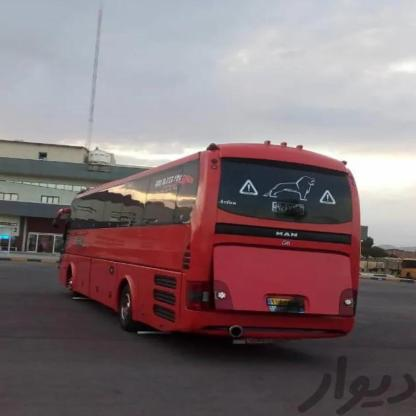Bus: (62, 130, 355, 352)
